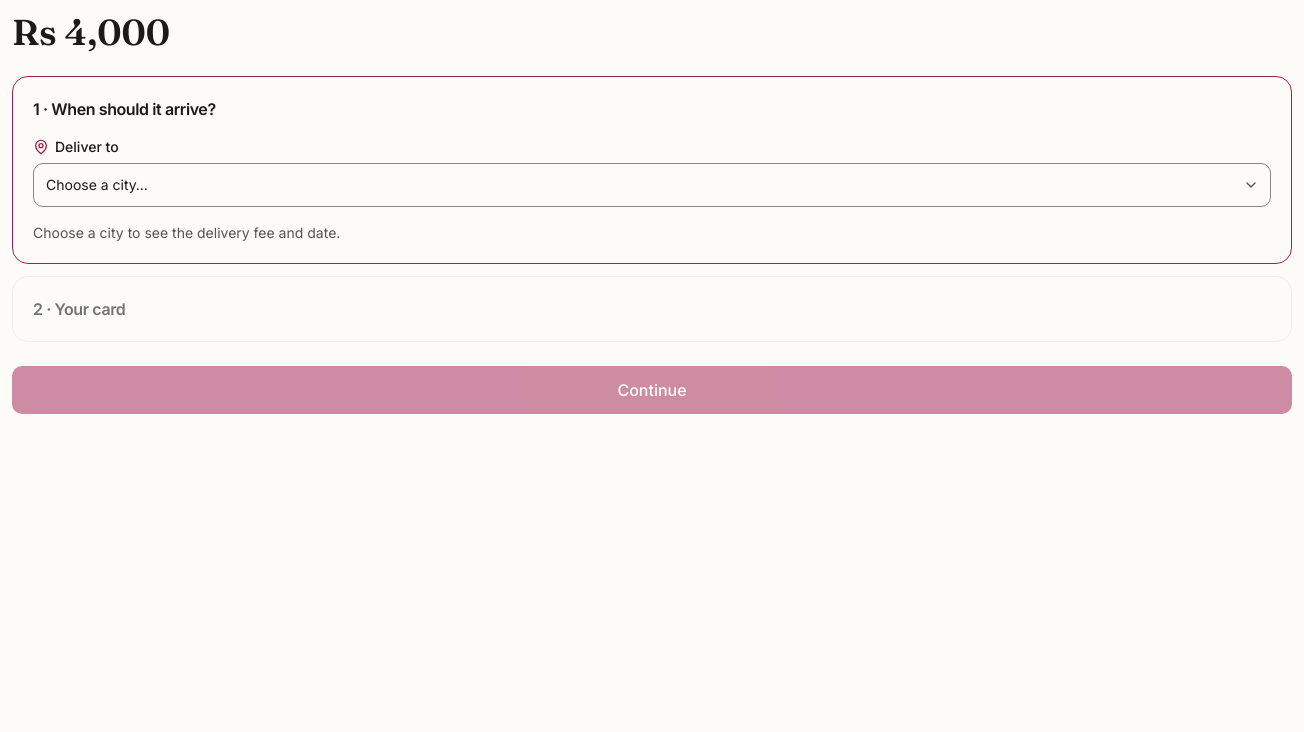
Scenario: VariantPicker delivery info › shows the city's price, fee, earliest day and an honest same-day countdown
The image size is (1304, 732).
Select "Lahore" in the dropdown labelled "Deliver to". click: {"x": 652, "y": 185}
box: [33,163,1271,207]
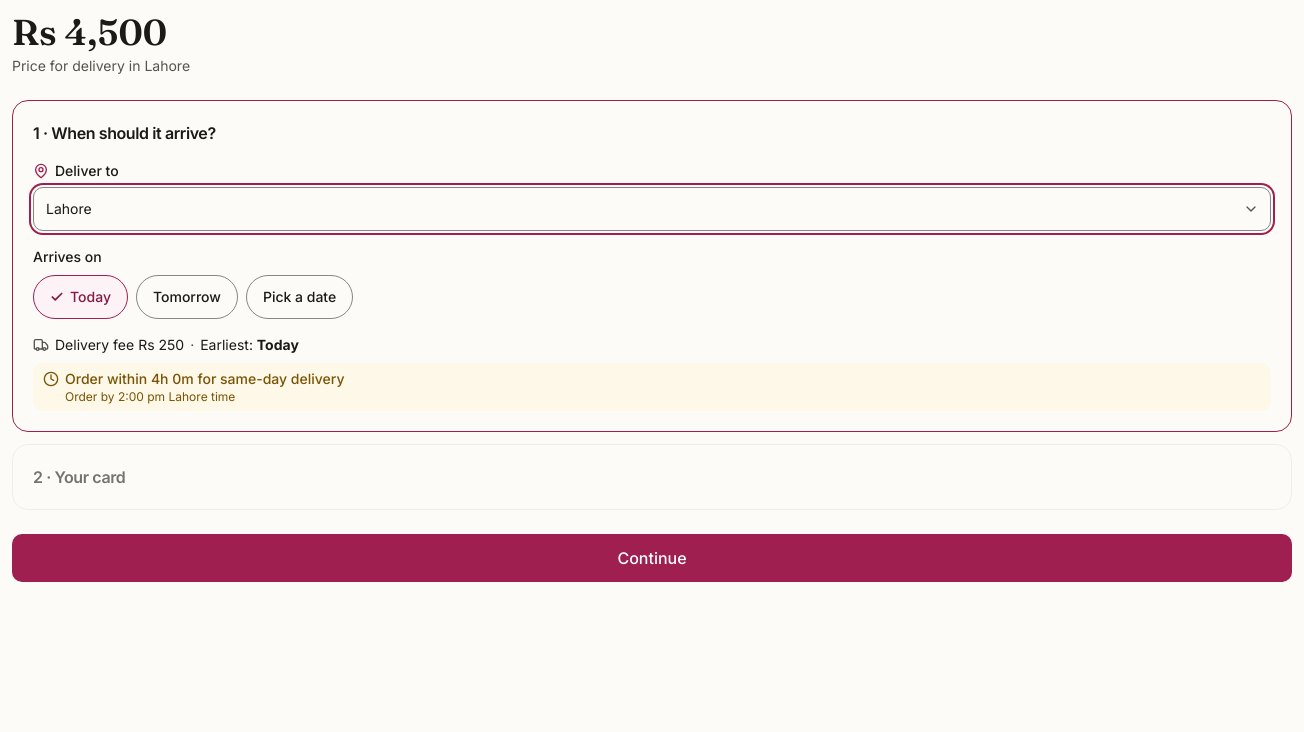
Expected: the text "Price for delivery in Lahore" is shown, [12,57,190,74]
Expected: the text "Delivery fee Rs 250" is shown, [55,336,184,353]
Expected: the radio button labelled "Today" is checked, [33,275,128,319]
